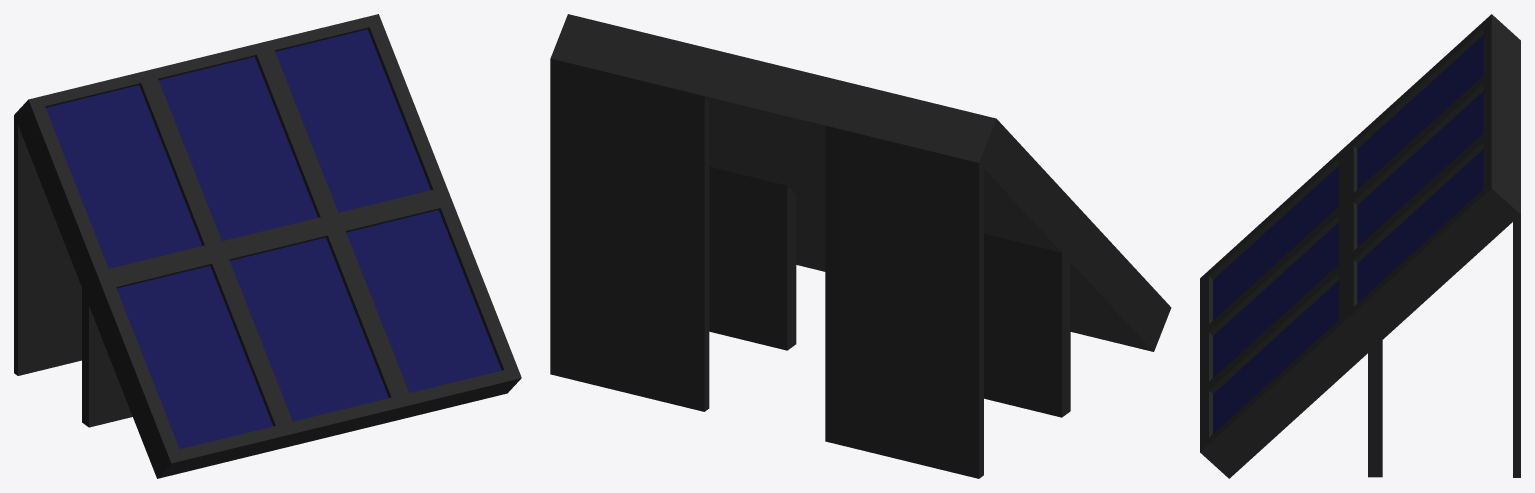
The model's file is panneau_solaire.fbx.
3 renders of one model, left to right at view 1: azimuth 30°, elevation 25°; view 2: azimuth 150°, elevation 25°; view 3: azimuth 270°, elevation 25°, orthographic. The views are drawn at different scales.
Parts seen in each view (by area): view 1: Cube; view 2: Cube; view 3: Cube.
Part boxes in pixels (x1=…): Cube: x1=14, y1=14, x2=521, y2=478; Cube: x1=550, y1=14, x2=1171, y2=478; Cube: x1=1200, y1=14, x2=1520, y2=478.
Bounding box in the file's own units: 200 × 156 × 156.
